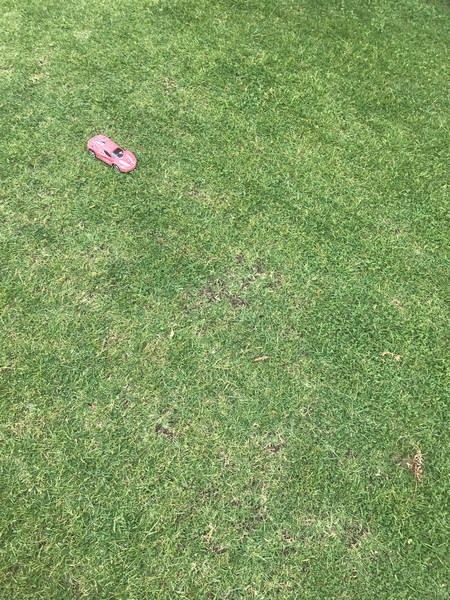RC: (85, 134, 139, 175)
